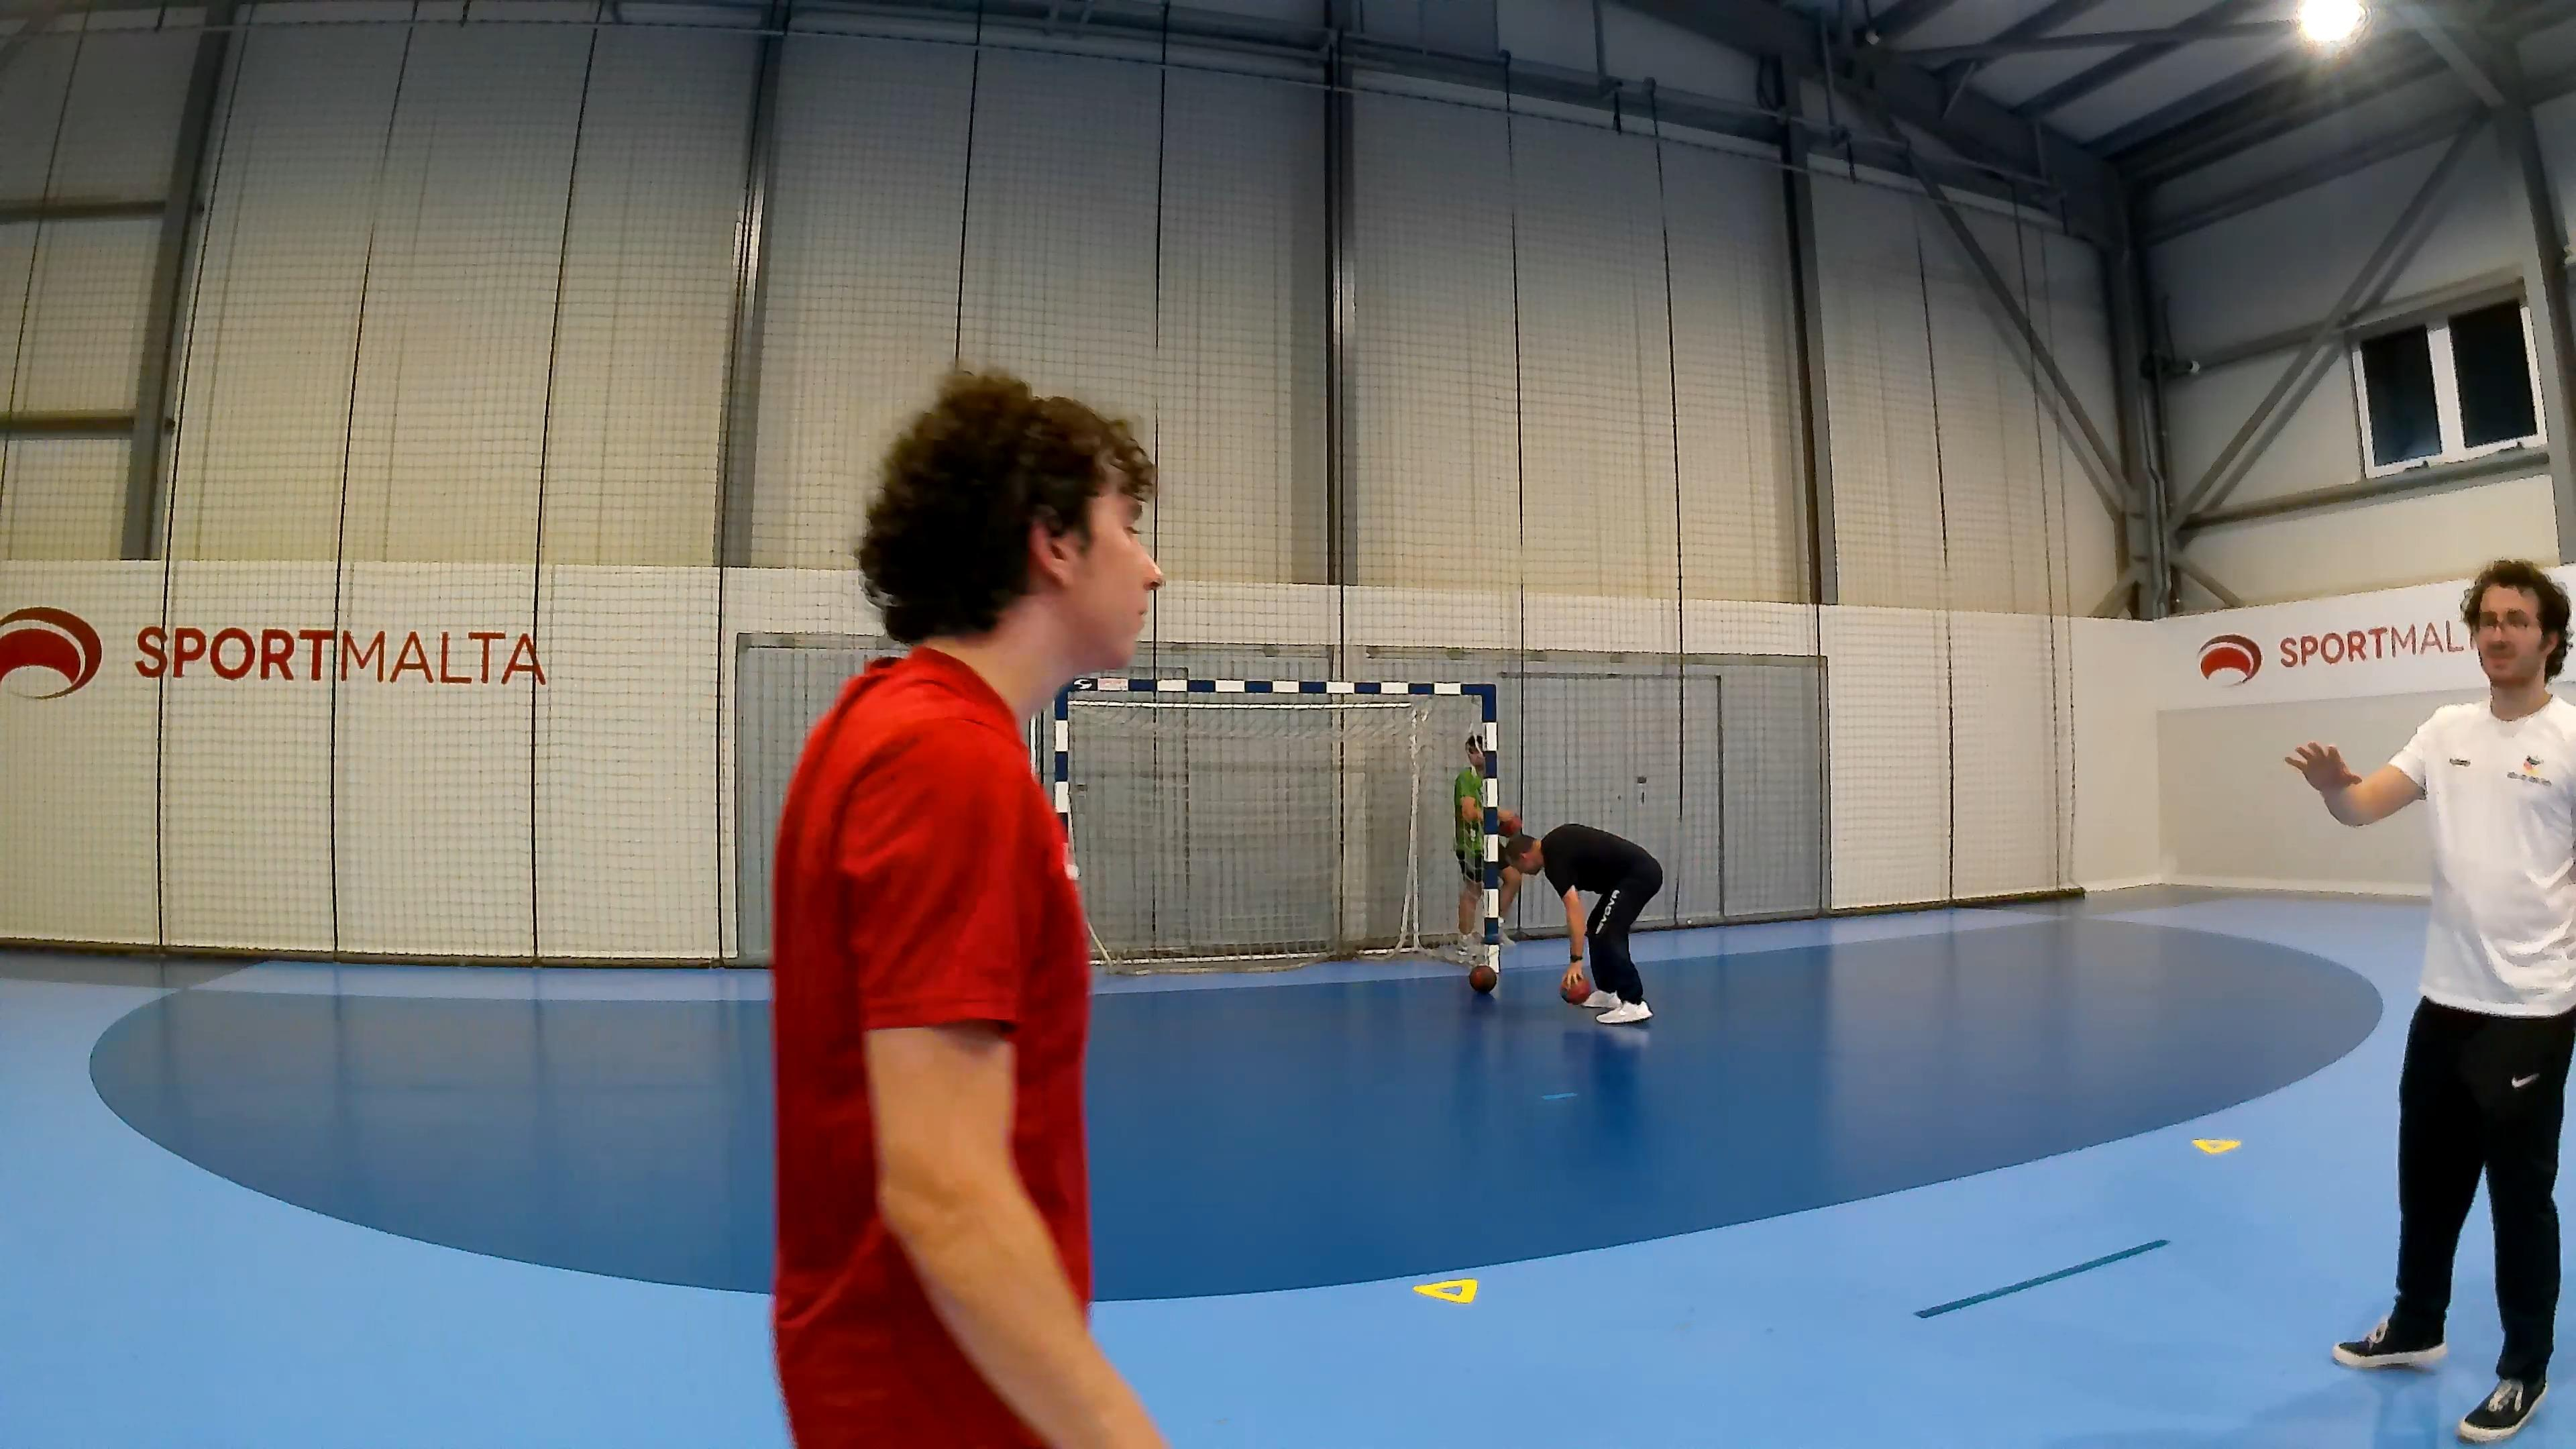handball: (1560, 966, 1591, 1003), (1468, 962, 1497, 993)
